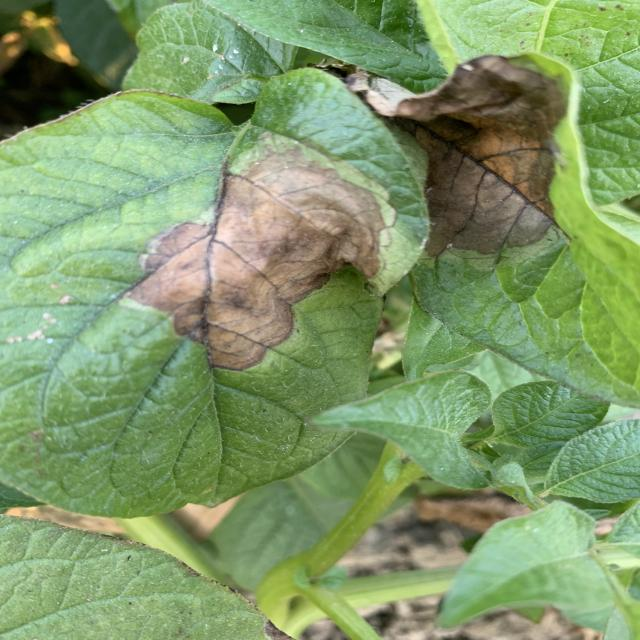lateblight: (128, 131, 387, 370), (345, 55, 567, 255)
